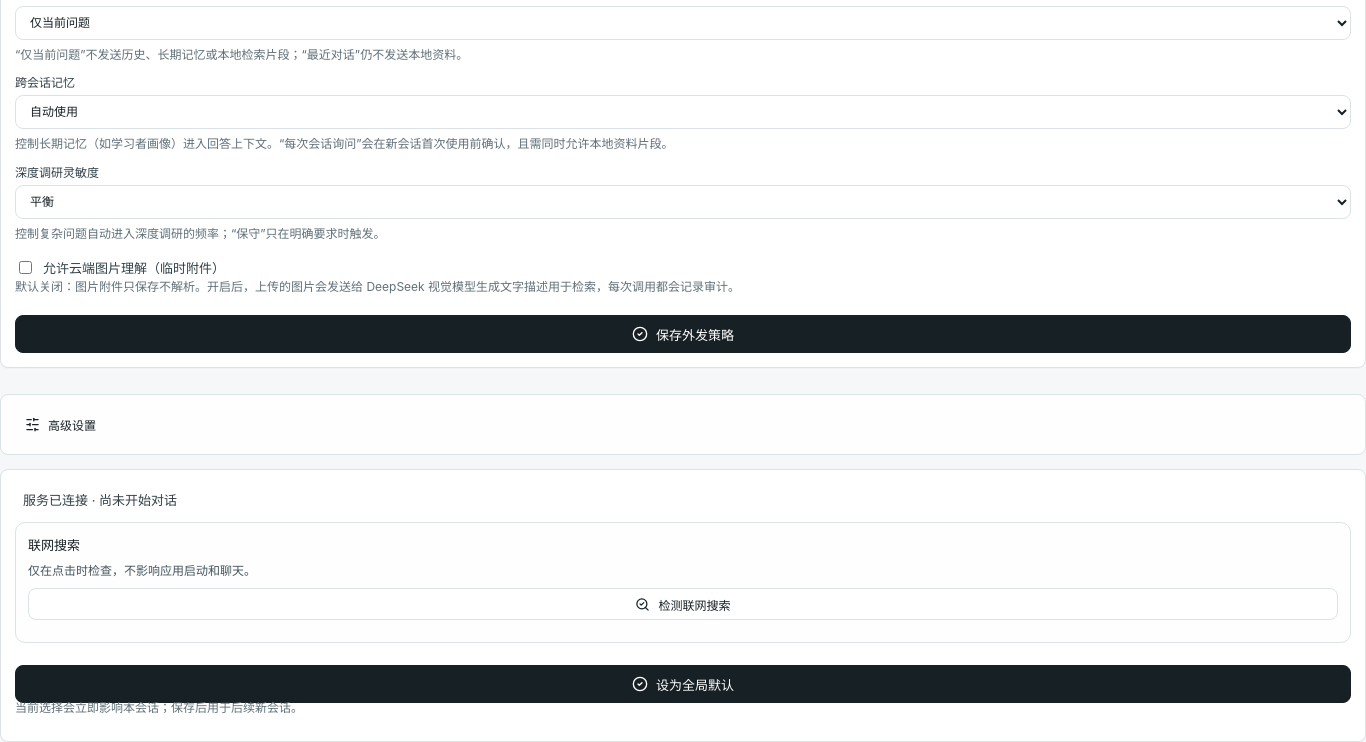
Scenario: SettingsPanel progressive disclosure › keeps all existing engineering controls reachable after opening advanced settings
The image size is (1366, 742).
(page scrolled)
Click the heading "高级设置": (60, 426) [25,418,96,434]
(page scrolled)
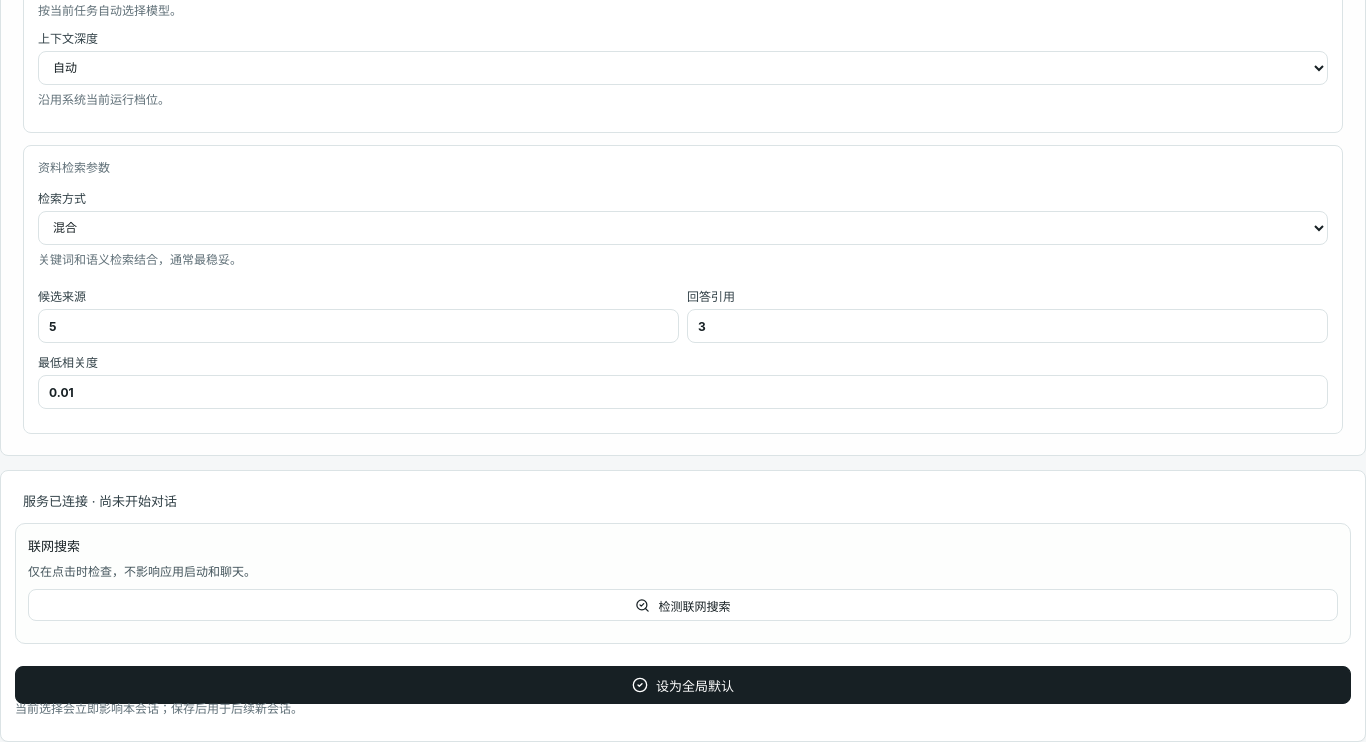
Result: the dropdown labelled "上下文深度" is shown at [38,51,1328,85]
Result: the dropdown labelled "检索方式" is shown at [38,211,1328,245]
Result: the number field labelled "候选来源" is shown at [38,309,679,343]
